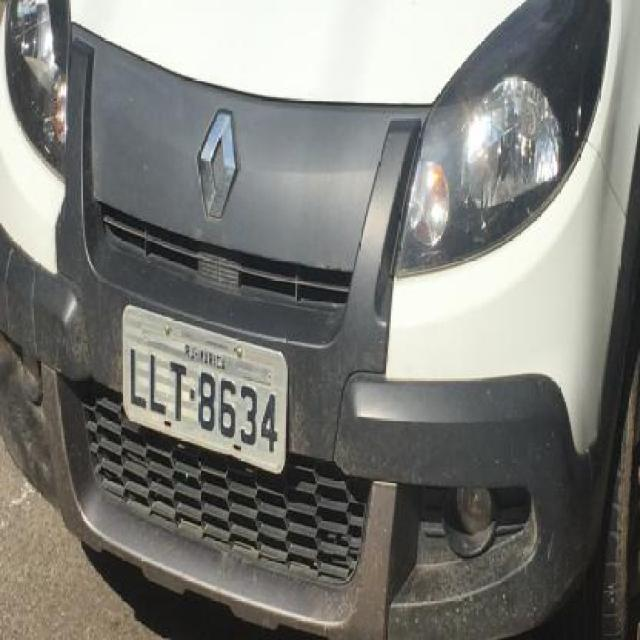old_plate: (116, 298, 296, 480)
